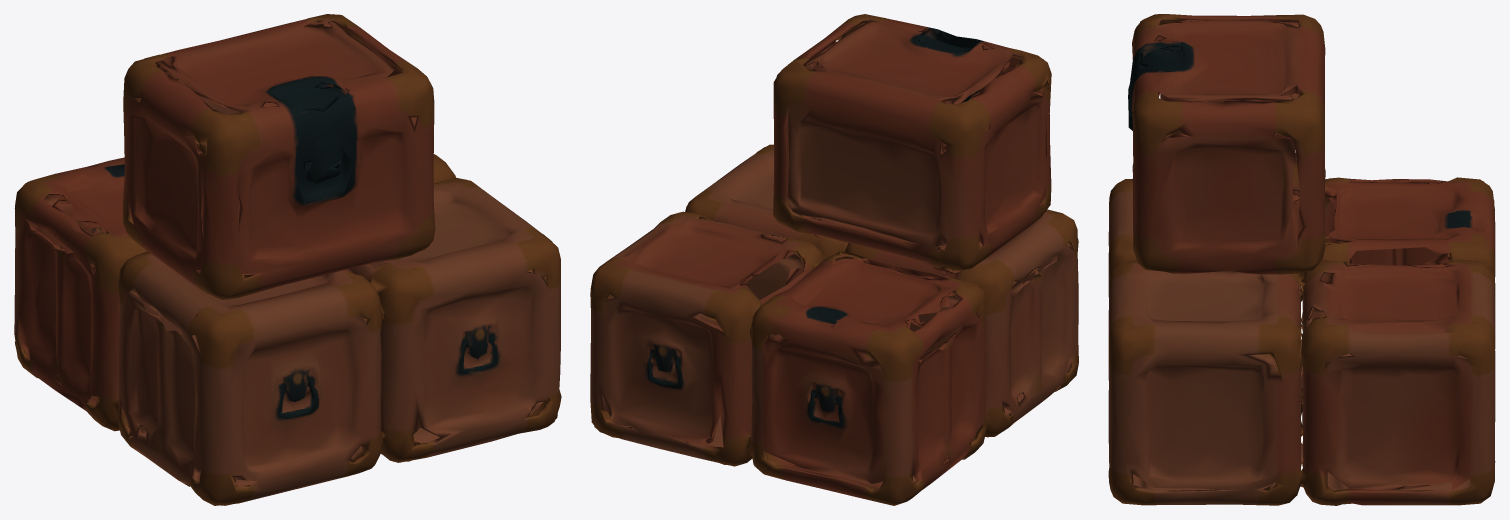
File: yashchiki-shtabel.glb
3 views of the same model, side by side, from view 1: azimuth 30°, elevation 25°; view 2: azimuth 150°, elevation 25°; view 3: azimuth 270°, elevation 25° (orthographic). The views are drawn at different scales.
Parts seen in each view (by area): view 1: geometry_0; view 2: geometry_0; view 3: geometry_0.
Boxes of the visible parts, <box> form: geometry_0: <box>14,14,561,505</box>; geometry_0: <box>590,14,1078,505</box>; geometry_0: <box>1108,14,1495,505</box>.
Bounding box in the file's own units: 0.9983 × 0.9962 × 0.996.
Materials: 1 (1 with a texture image).
